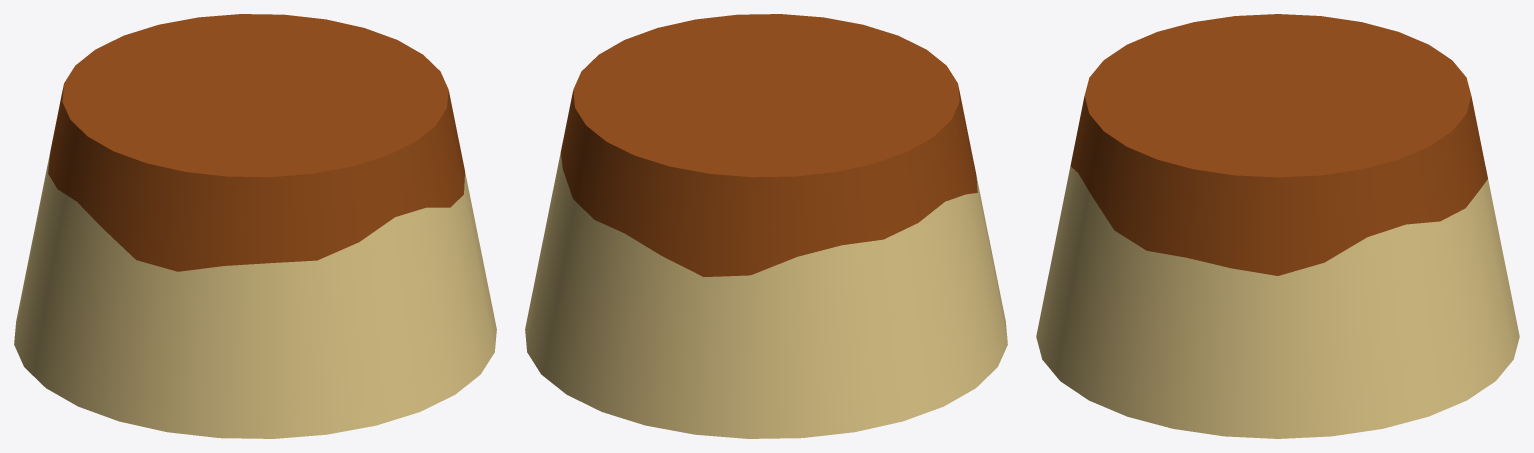
File: Pudding.obj
The picture shows the model from 3 angles, left to right: view 1: azimuth 30°, elevation 25°; view 2: azimuth 150°, elevation 25°; view 3: azimuth 270°, elevation 25°; orthographic projection.
Parts seen in each view (by area): view 1: Pudding; view 2: Pudding; view 3: Pudding.
Part boxes in pixels (x1,y1,x2,y2): Pudding: [14, 14, 496, 438]; Pudding: [525, 14, 1007, 438]; Pudding: [1036, 14, 1519, 438].
Size of the model in its own units: 1 by 0.55 by 1.
